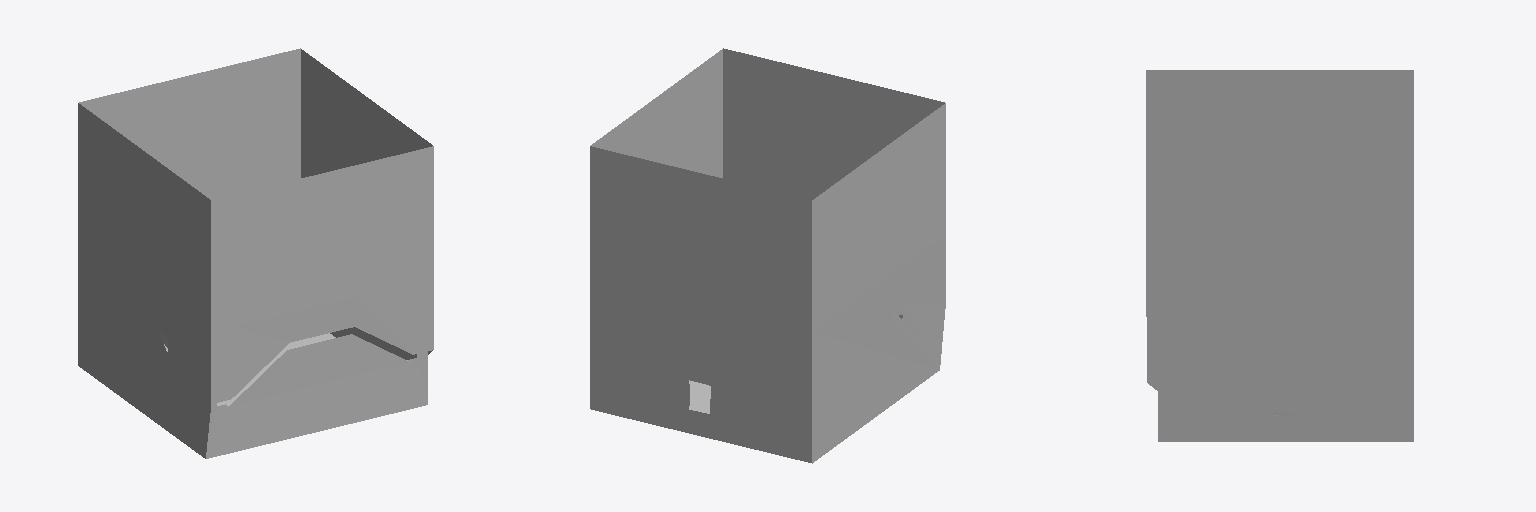
Rendered from JSch_Level_1 Walls.obj.
The picture shows the model from 3 angles: view 1: azimuth 30°, elevation 25°; view 2: azimuth 150°, elevation 25°; view 3: azimuth 270°, elevation 25°; orthographic projection.
Parts seen in each view (by area): view 1: Floor_Cube.014; view 2: Floor_Cube.014; view 3: Floor_Cube.014.
Boxes of the visible parts, x1,y1,x2,y2 form: Floor_Cube.014: [78, 48, 433, 458]; Floor_Cube.014: [590, 48, 945, 463]; Floor_Cube.014: [1146, 70, 1413, 441].
Size of the model in its own units: 15.2 by 17.17 by 15.78.